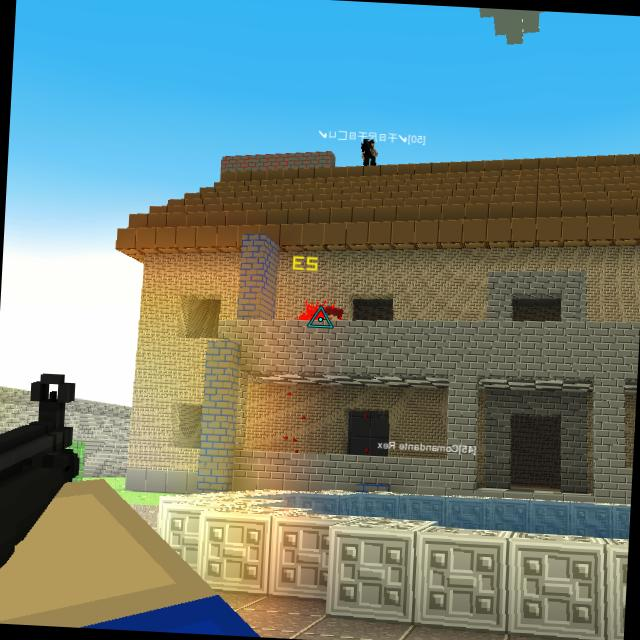enemy: (320, 303, 346, 320)
